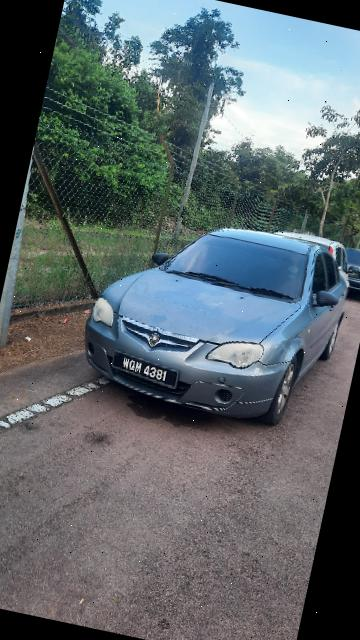License_Plate: (108, 347, 187, 395)
car: (69, 193, 360, 446)
